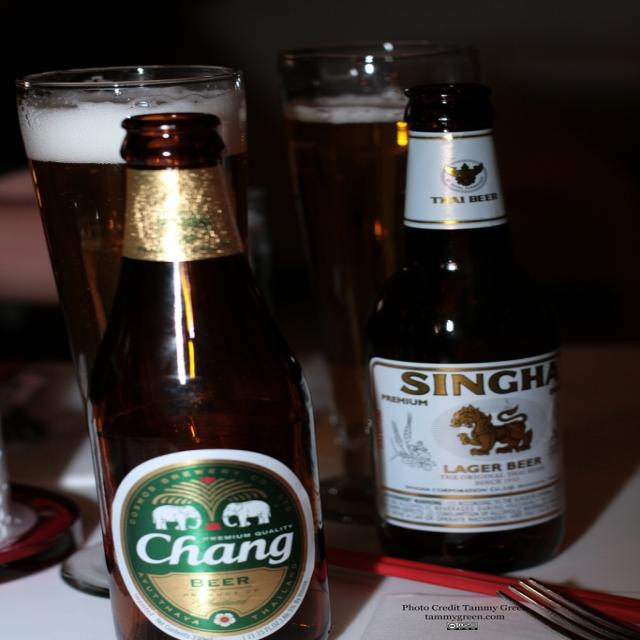singha: (367, 355, 568, 529)
